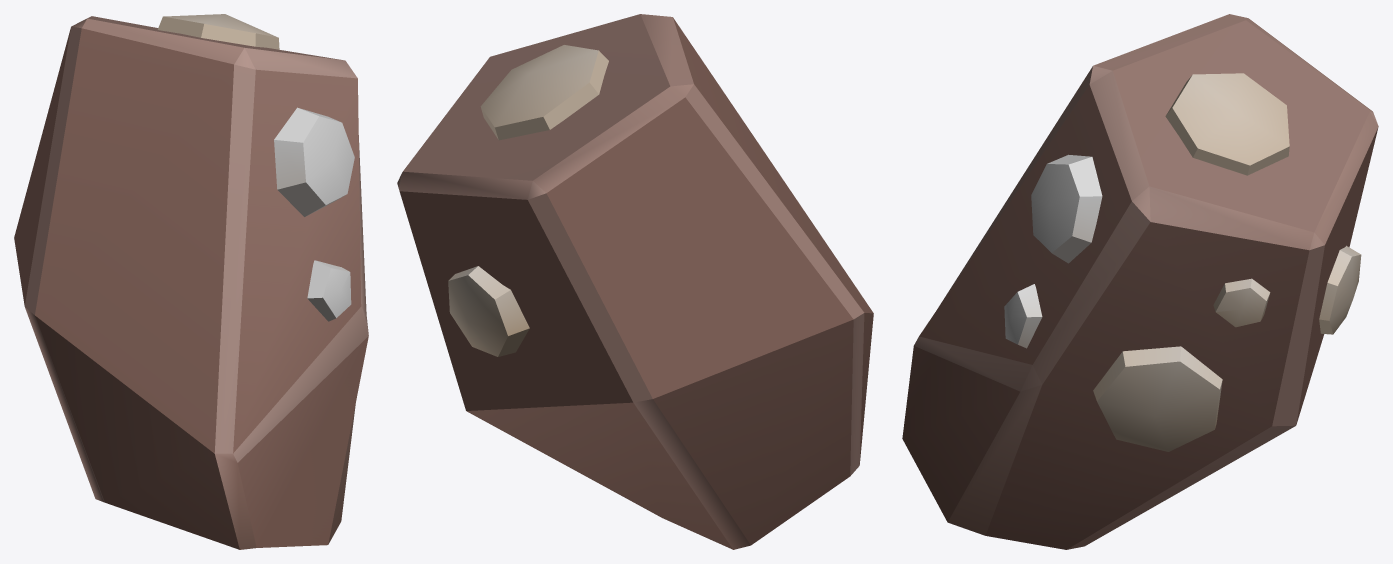
The model's file is ChocolateChunkA.glb.
The picture shows the model from 3 angles, left to right: view 1: azimuth 30°, elevation 25°; view 2: azimuth 150°, elevation 25°; view 3: azimuth 270°, elevation 25°; orthographic projection. The views are drawn at different scales.
Parts seen in each view (by area): view 1: ChocolateChunkA; view 2: ChocolateChunkA; view 3: ChocolateChunkA.
Part boxes in pixels (x1,y1,x2,y2): ChocolateChunkA: (14, 14, 368, 549); ChocolateChunkA: (397, 14, 873, 549); ChocolateChunkA: (902, 14, 1378, 549).
Size of the model in its own units: 0.5396 by 0.7198 by 0.643.
